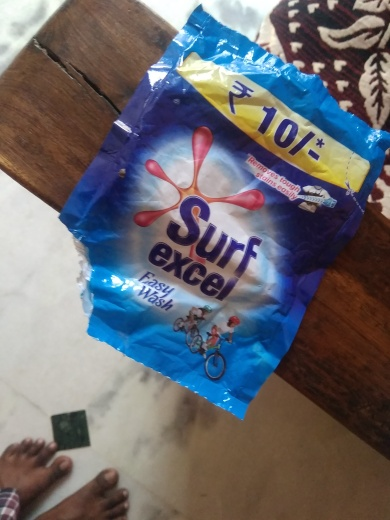surf: (71, 2, 390, 424)
